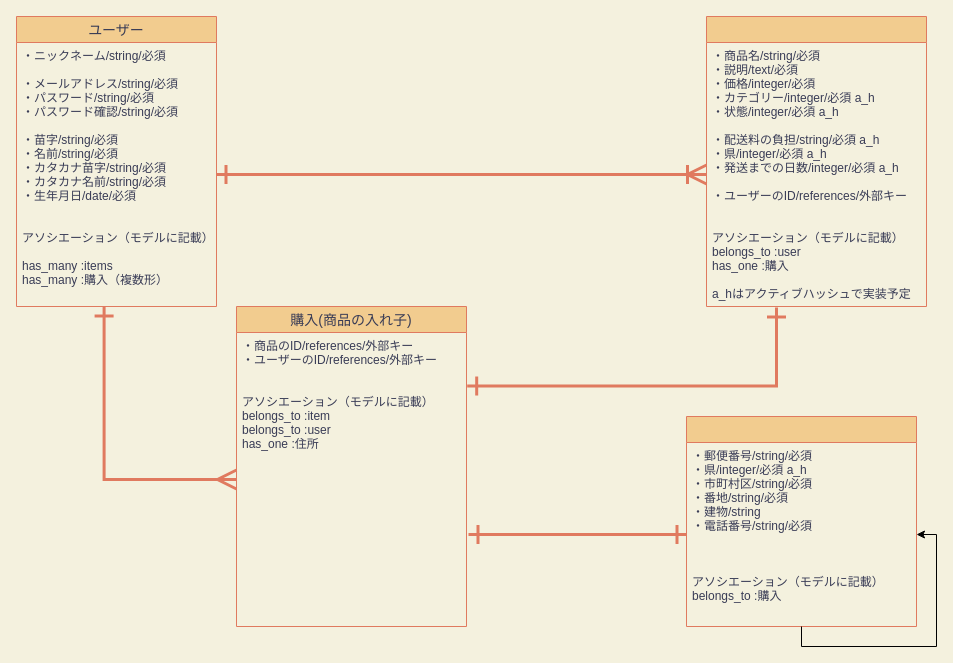
This 953x663 diagram has some shape labels left out. Each missing label, with the box of its shape:
住所(購入の入れ子): (686, 416, 916, 626)
商品: (706, 16, 926, 306)
